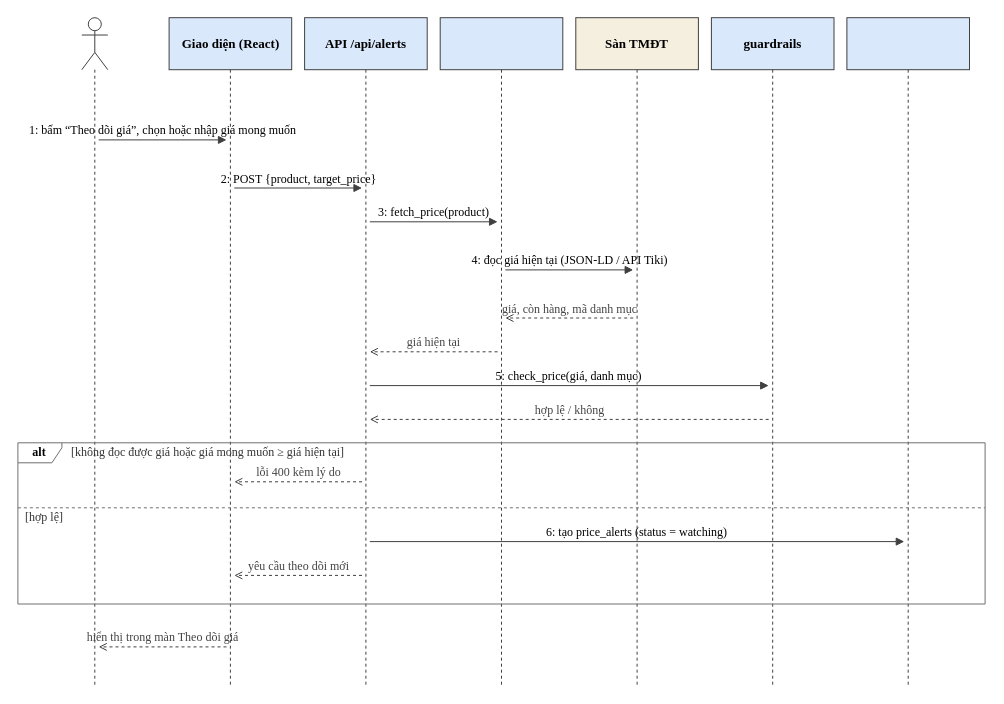
Some shapes in this 1004 by 704 pixel diagram are drawn without their labels. Here are the shapes that lost their labels. From the top down, the box of each, then its label:
(81, 17, 108, 686): Người dùng
(439, 17, 563, 686): PriceWatcherService
(846, 17, 970, 686): SQLite
